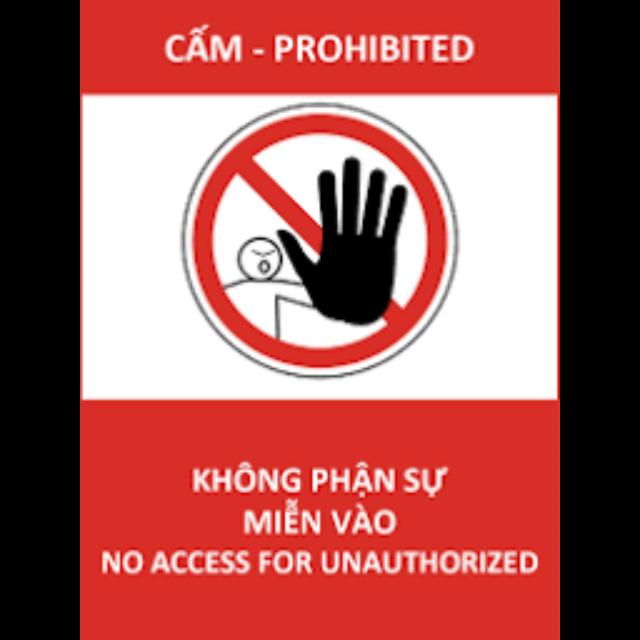no_entry: (80, 0, 558, 638)
